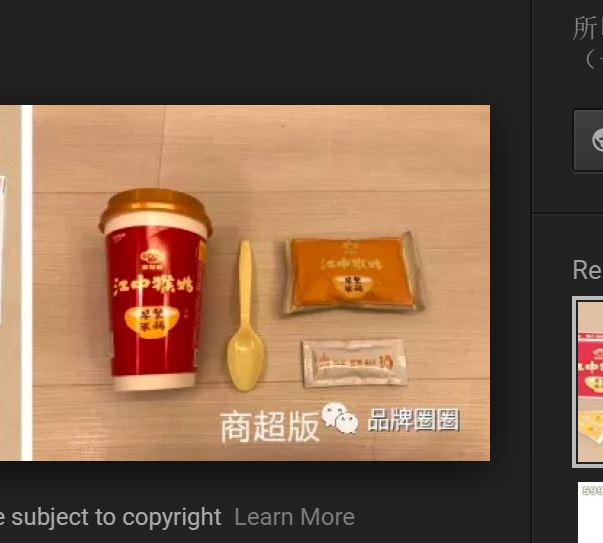cup: (103, 187, 210, 394)
